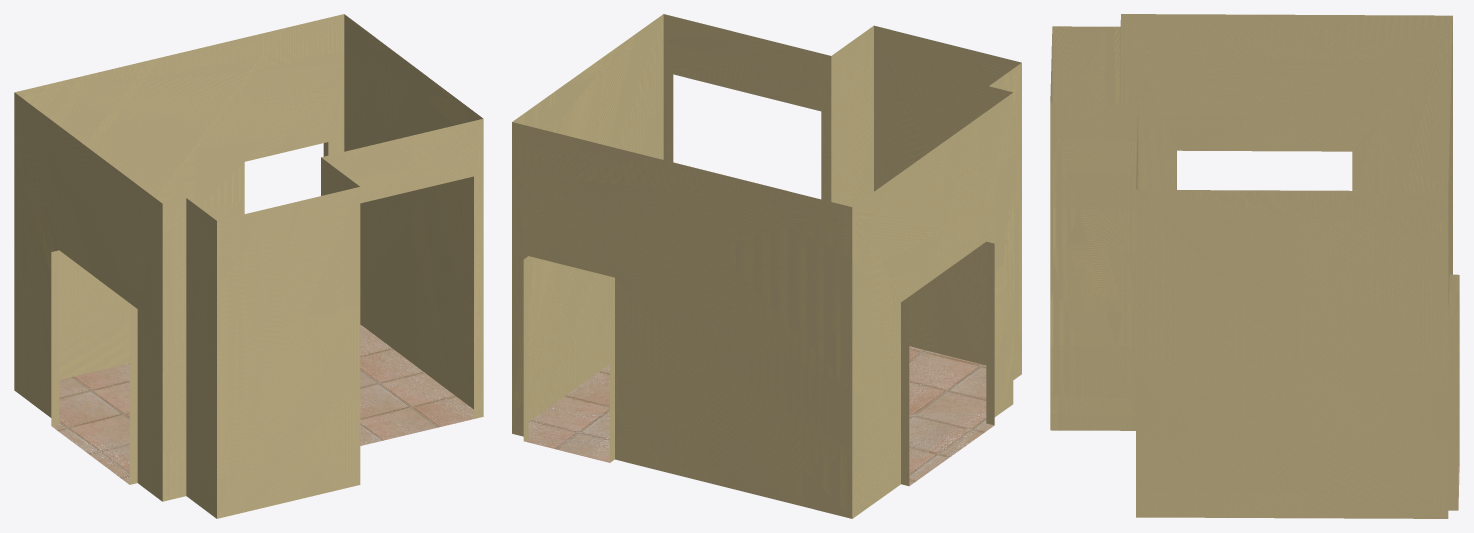
The model's file is COM017.obj.
3 renders of one model, left to right at view 1: azimuth 30°, elevation 25°; view 2: azimuth 150°, elevation 25°; view 3: azimuth 270°, elevation 25°, orthographic. The views are drawn at different scales.
Parts seen in each view (by area): view 1: Mesh1 COM017 Model; view 2: Mesh1 COM017 Model; view 3: Mesh1 COM017 Model.
Boxes of the visible parts, left/top/right/bottom form: Mesh1 COM017 Model: left=14, top=14, right=483, bottom=518; Mesh1 COM017 Model: left=512, top=14, right=1021, bottom=518; Mesh1 COM017 Model: left=1050, top=14, right=1459, bottom=518.
Size of the model in its own units: 4.27 by 3.6 by 4.08.
4 materials, 2 textured.
